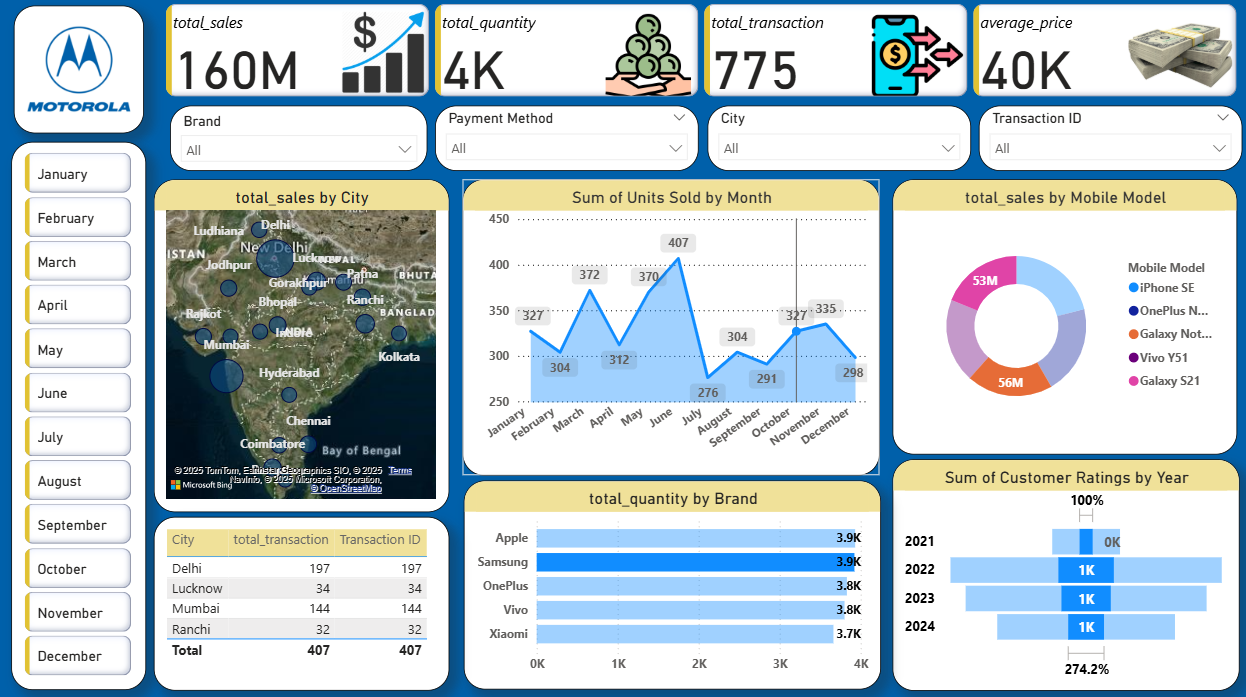

The dashboard page shown, as its layout file describes it:
{"tool":"powerbi","page":{"name":"Mobile_Sales_dash","canvas":[1280,720],"ordinal":0},"visuals":[{"type":"image","box":[14.5,7.2,133.9,131.5],"z":0},{"type":"shape","box":[11,146.8,138.6,562.6],"z":1000},{"type":"advancedSlicerVisual","fields":{"Values":["mobile_Salees_data.Date.Variation.Date Hierarchy.Month"]},"box":[20.6,157.8,119.4,551.6],"z":2000},{"type":"cardVisual","fields":{"Data":["mobile_Salees_data.total_sales","mobile_Salees_data.total_quantity","mobile_Salees_data.total_transaction","mobile_Salees_data.average_price"]},"box":[165.3,1.2,1109.9,108.6],"z":3000},{"type":"map","title":" total_sales by City","fields":{"Category":["mobile_Salees_data.City"],"Size":["mobile_Salees_data.total_sales"]},"box":[158,185.8,302.8,341.4],"z":4000},{"type":"lineChart","fields":{"Y":["Sum(mobile_Salees_data.Units Sold)"],"Category":["mobile_Salees_data.Date.Variation.Date Hierarchy.Month","mobile_Salees_data.Date.Variation.Date Hierarchy.Day"]},"box":[474.1,185.8,428.3,304],"z":5000},{"type":"pieChart","fields":{"Category":["mobile_Salees_data.Mobile Model"],"Y":["mobile_Salees_data.total_sales"]},"box":[915.7,185.8,353.5,282.3],"z":6000},{"type":"funnel","fields":{"Category":["mobile_Salees_data.Date.Variation.Date Hierarchy.Year"],"Y":["Sum(mobile_Salees_data.Customer Ratings)"]},"box":[915.7,472.9,355.9,237.7],"z":7000},{"type":"clusteredBarChart","fields":{"Category":["mobile_Salees_data.Brand"],"Y":["mobile_Salees_data.total_quantity"]},"box":[475.3,494.6,428.3,214.7],"z":8000},{"type":"tableEx","fields":{"Values":["mobile_Salees_data.City","mobile_Salees_data.total_transaction","CountNonNull(mobile_Salees_data.Transaction ID)"]},"box":[158,532,302.8,178.6],"z":9000},{"type":"slicer","fields":{"Values":["mobile_Salees_data.Brand"]},"box":[174.9,109.8,264.2,67.6],"z":10000},{"type":"slicer","fields":{"Values":["mobile_Salees_data.Payment Method"]},"box":[446.4,109.8,270.2,67.6],"z":11000},{"type":"slicer","fields":{"Values":["mobile_Salees_data.City"]},"box":[725.1,109.8,270.2,67.6],"z":12000},{"type":"slicer","fields":{"Values":["mobile_Salees_data.Transaction ID"]},"box":[1003.8,109.8,270.2,67.6],"z":13000}]}

Visuals, with their boxes in screenshot pixels (x1, y1, x2, y2), scaled from the page's 1280x720 canvas onto the 1246x697 screenshot:
image: (14,7,144,134)
shape: (11,142,146,687)
advancedSlicerVisual - mobile_Salees_data.Date.Variation.Date Hierarchy.Month: (20,153,136,687)
cardVisual - mobile_Salees_data.total_sales x mobile_Salees_data.total_quantity: (161,1,1241,106)
" total_sales by City" map: (154,180,449,510)
lineChart - Sum(mobile_Salees_data.Units Sold) x mobile_Salees_data.Date.Variation.Date Hierarchy.Month: (462,180,878,474)
pieChart - mobile_Salees_data.Mobile Model x mobile_Salees_data.total_sales: (891,180,1235,453)
funnel - mobile_Salees_data.Date.Variation.Date Hierarchy.Year x Sum(mobile_Salees_data.Customer Ratings): (891,458,1238,688)
clusteredBarChart - mobile_Salees_data.Brand x mobile_Salees_data.total_quantity: (463,479,880,687)
tableEx - mobile_Salees_data.City x mobile_Salees_data.total_transaction: (154,515,449,688)
slicer - mobile_Salees_data.Brand: (170,106,427,172)
slicer - mobile_Salees_data.Payment Method: (435,106,698,172)
slicer - mobile_Salees_data.City: (706,106,969,172)
slicer - mobile_Salees_data.Transaction ID: (977,106,1240,172)
